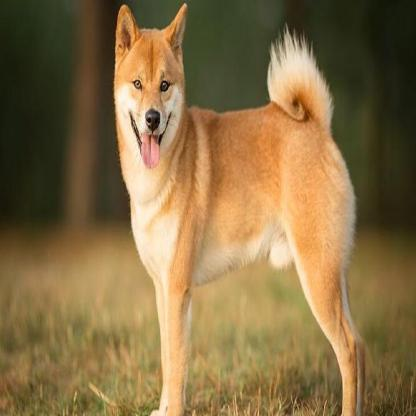dog: (113, 3, 368, 416)
